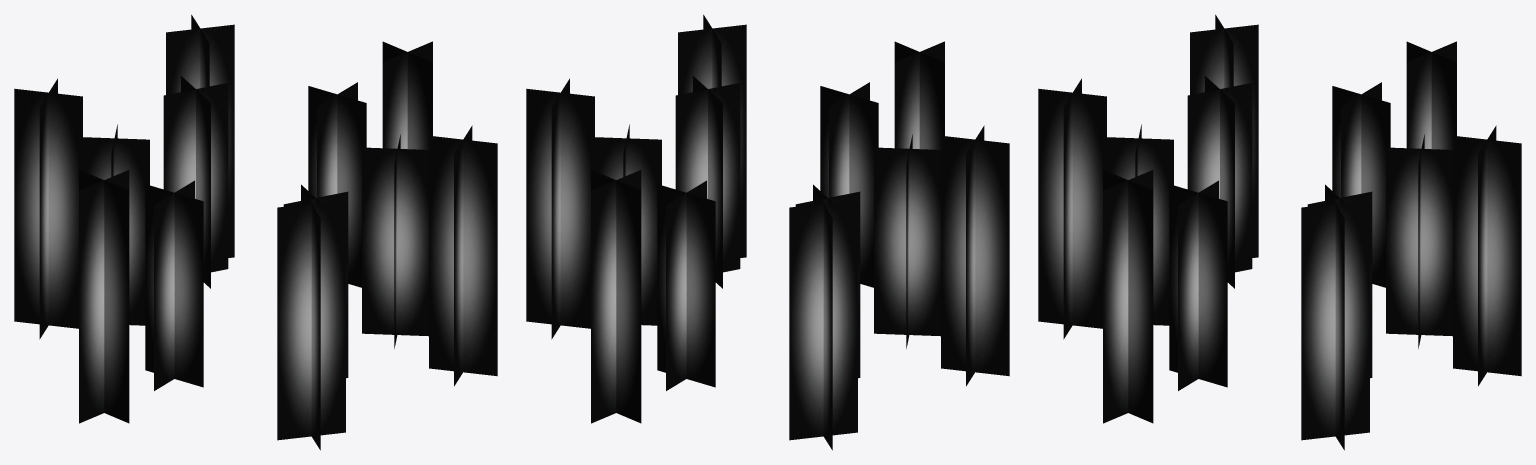
The model's file is vfx_kurp_0100.dae.
3 views of the same model, side by side, from view 1: azimuth 30°, elevation 25°; view 2: azimuth 150°, elevation 25°; view 3: azimuth 270°, elevation 25° (orthographic).
Visible parts, largest first — view 1: vfx_kurp_0100; view 2: vfx_kurp_0100; view 3: vfx_kurp_0100.
Part boxes in pixels (bbox=[...]): vfx_kurp_0100: bbox=[14, 14, 497, 450]; vfx_kurp_0100: bbox=[526, 14, 1009, 450]; vfx_kurp_0100: bbox=[1038, 14, 1521, 450].
Bounding box in the file's own units: 11.41 × 11.41 × 6.07.
Materials: 1 (1 with a texture image).
